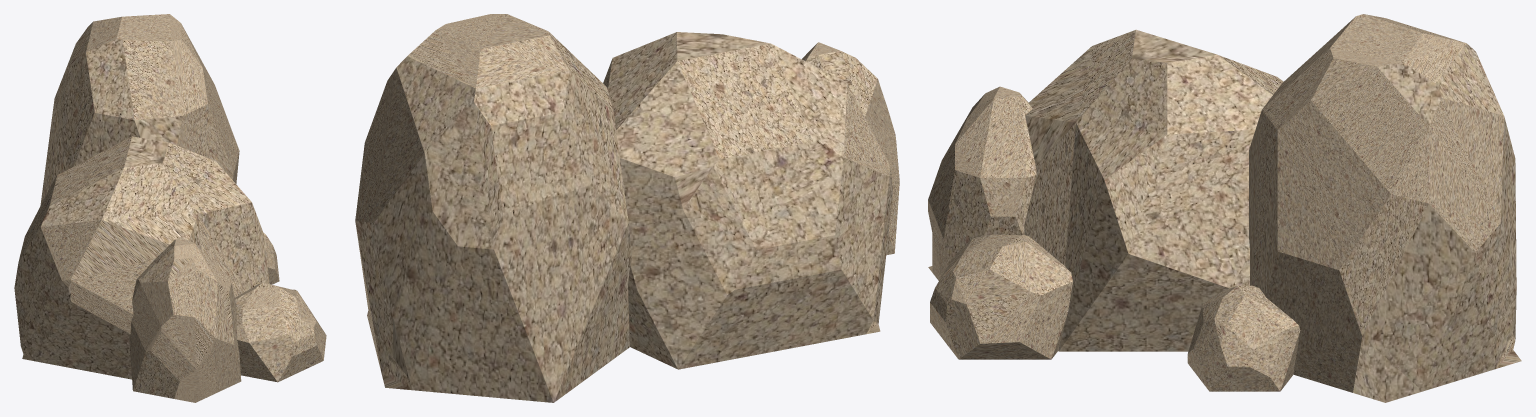
Rendered from big_rock.obj.
3 renders of one model, left to right at view 1: azimuth 30°, elevation 25°; view 2: azimuth 150°, elevation 25°; view 3: azimuth 270°, elevation 25°, orthographic. The views are drawn at different scales.
Visible parts, largest first — view 1: Icosphere.001; view 2: Icosphere.001; view 3: Icosphere.001.
Part boxes in pixels (x1,y1,x2,y2): Icosphere.001: [14, 14, 326, 402]; Icosphere.001: [355, 14, 899, 402]; Icosphere.001: [928, 14, 1521, 402].
Bounding box in the file's own units: 4.73 × 3.53 × 6.18.
Materials: 5 (5 with a texture image).
